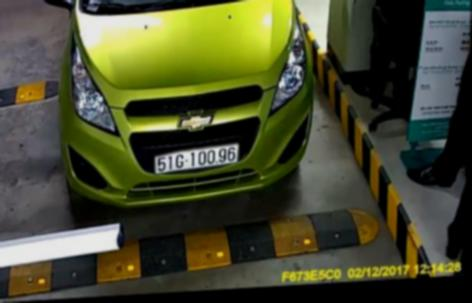License_Plate: (152, 144, 239, 177)
